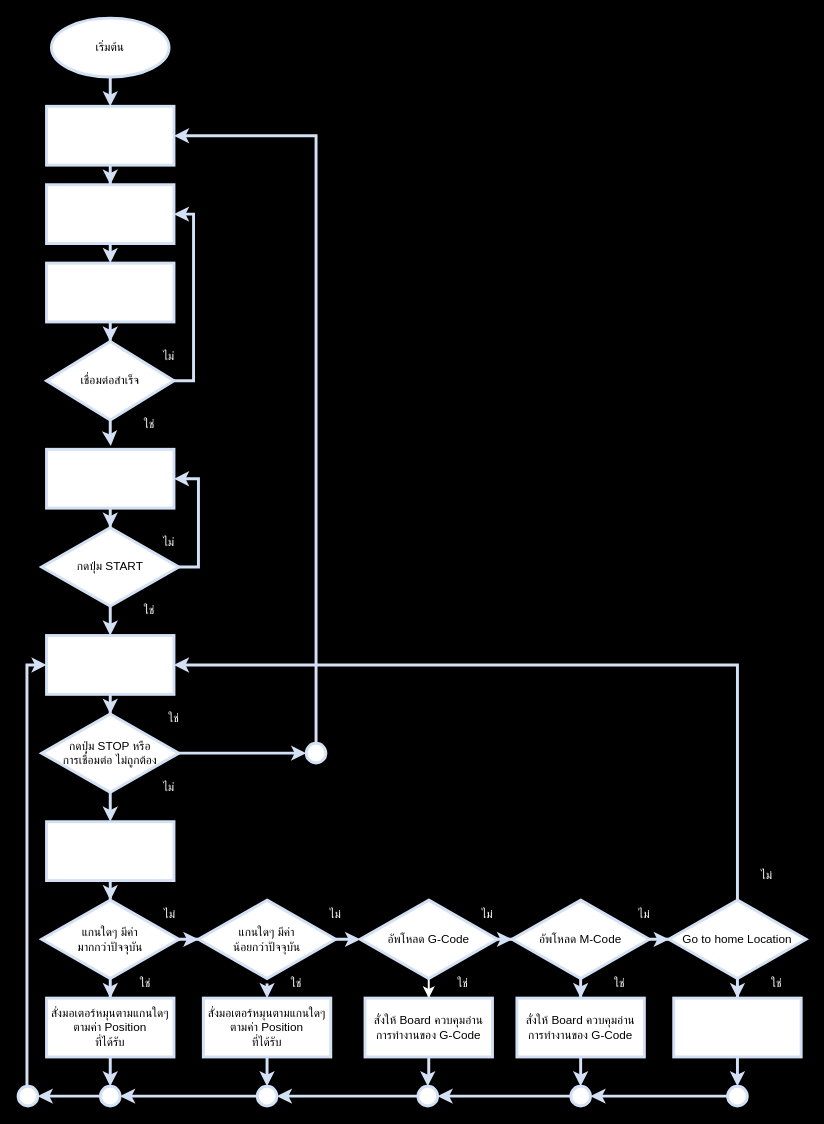
This 824x1124 diagram has some shape labels left out. The shapes that lost their labels are listed below. From the top down, each one's centre as x and y in pixels, then its label:
point (110, 135): ไปที่ตำแหน่ง Position 0 ทั้ง 6 แกน
point (110, 214): แสดงสถานะ Status : Waiting
point (110, 292): เชื่อมต่อ Port และ ระบบ GUI controller
point (110, 478): แสดงสถานะ Status : Ready
point (110, 664): ทำงานวนซ้ำในฟังชั่น main loop
point (110, 851): - อ่านค่าแกนจากการป้อนค่าของผู้ใช้ ของ Jog - รับค่า Scale จากส่วนของ Jog
point (737, 1027): ตั้งค่า Position ทั้ง 6 แกน เป็นค่า 0
